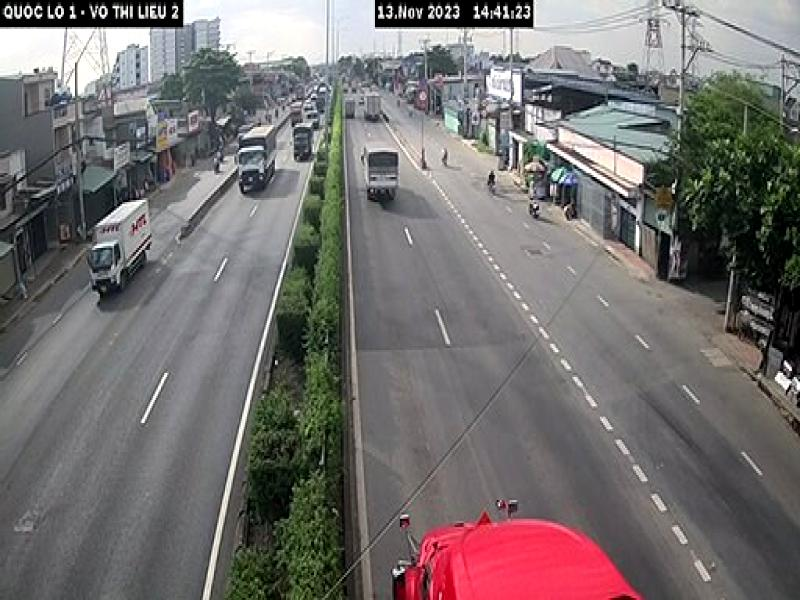truck: (86, 188, 154, 294), (235, 120, 276, 194)
